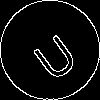U: (25, 25, 81, 84)
